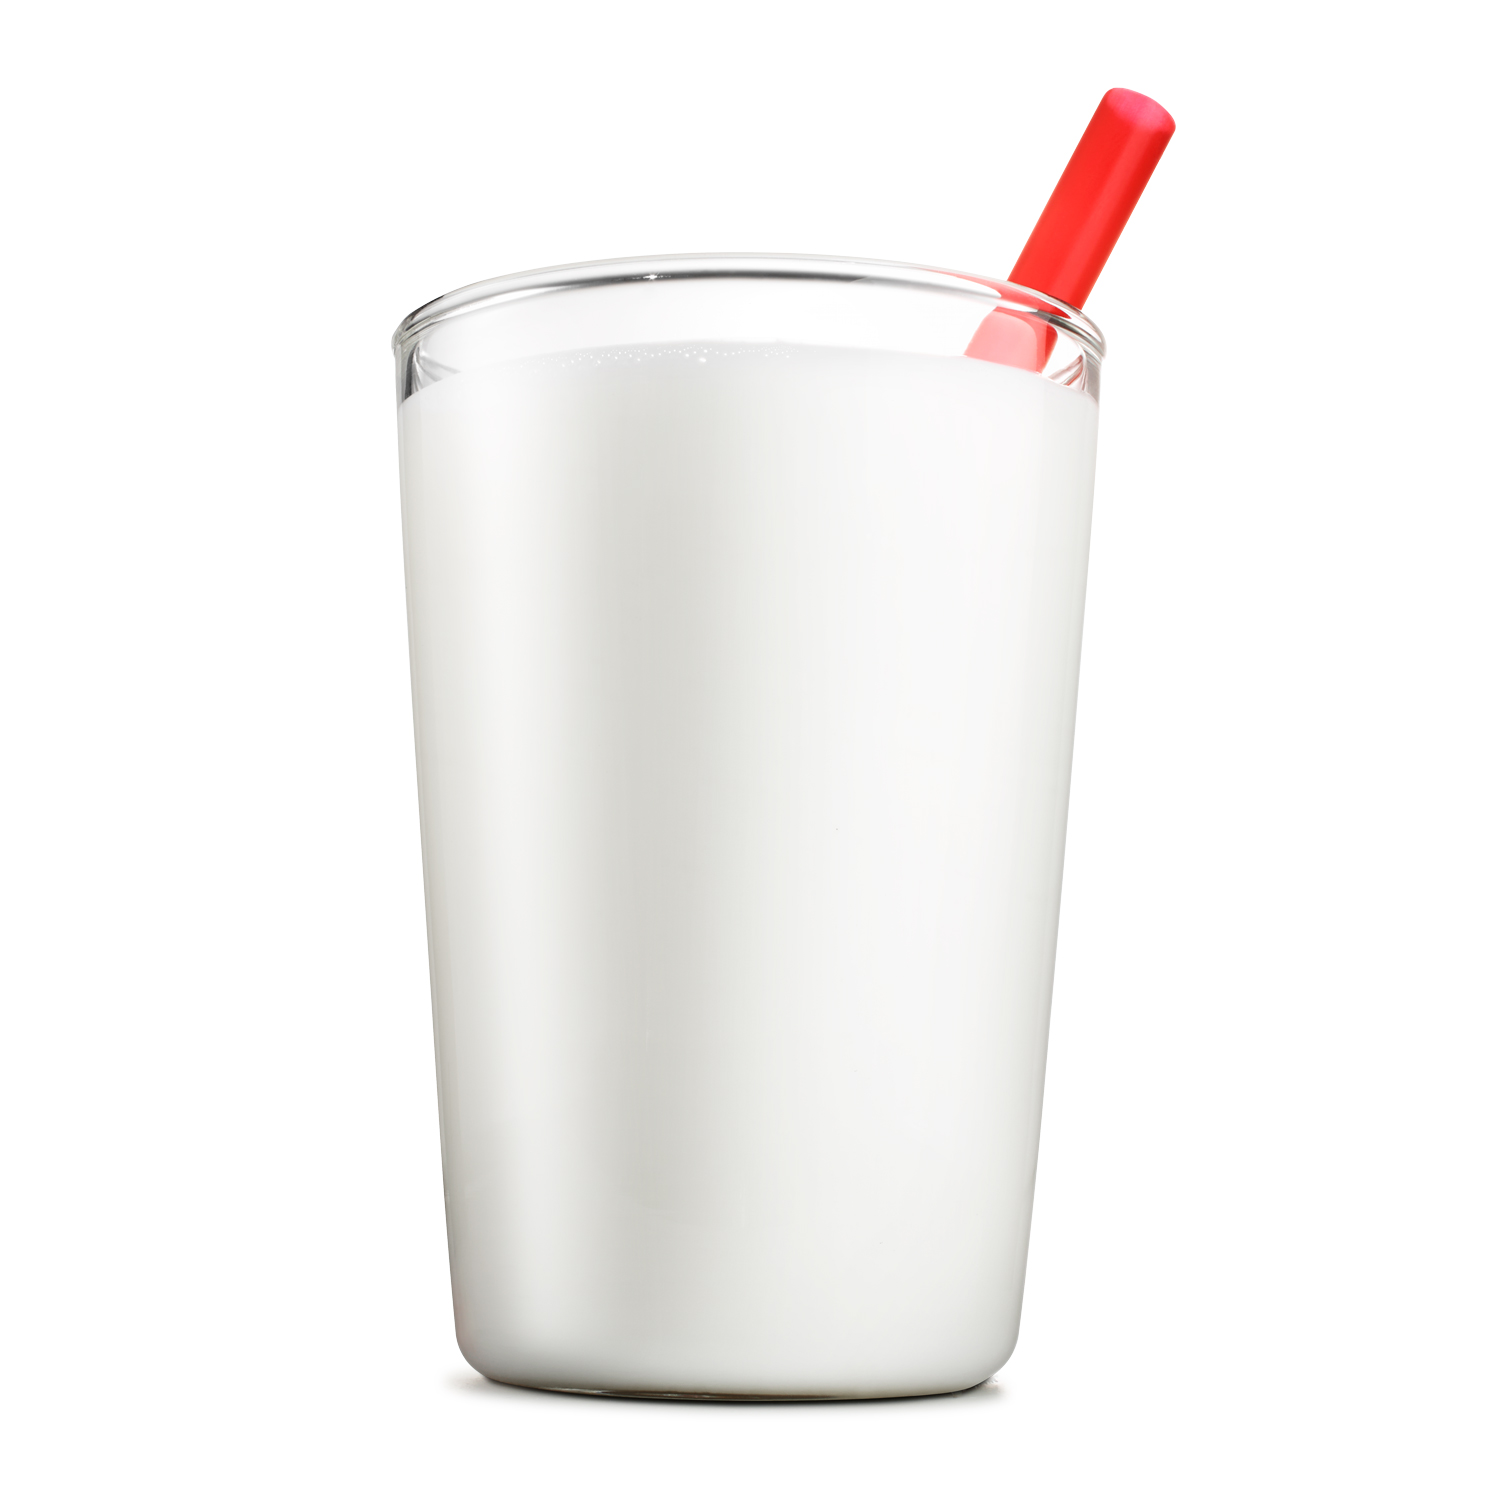glass of milk: (391, 271, 1093, 1391)
